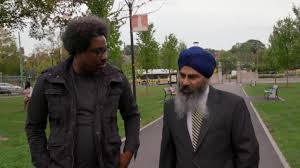helmet: (171, 45, 218, 97)
